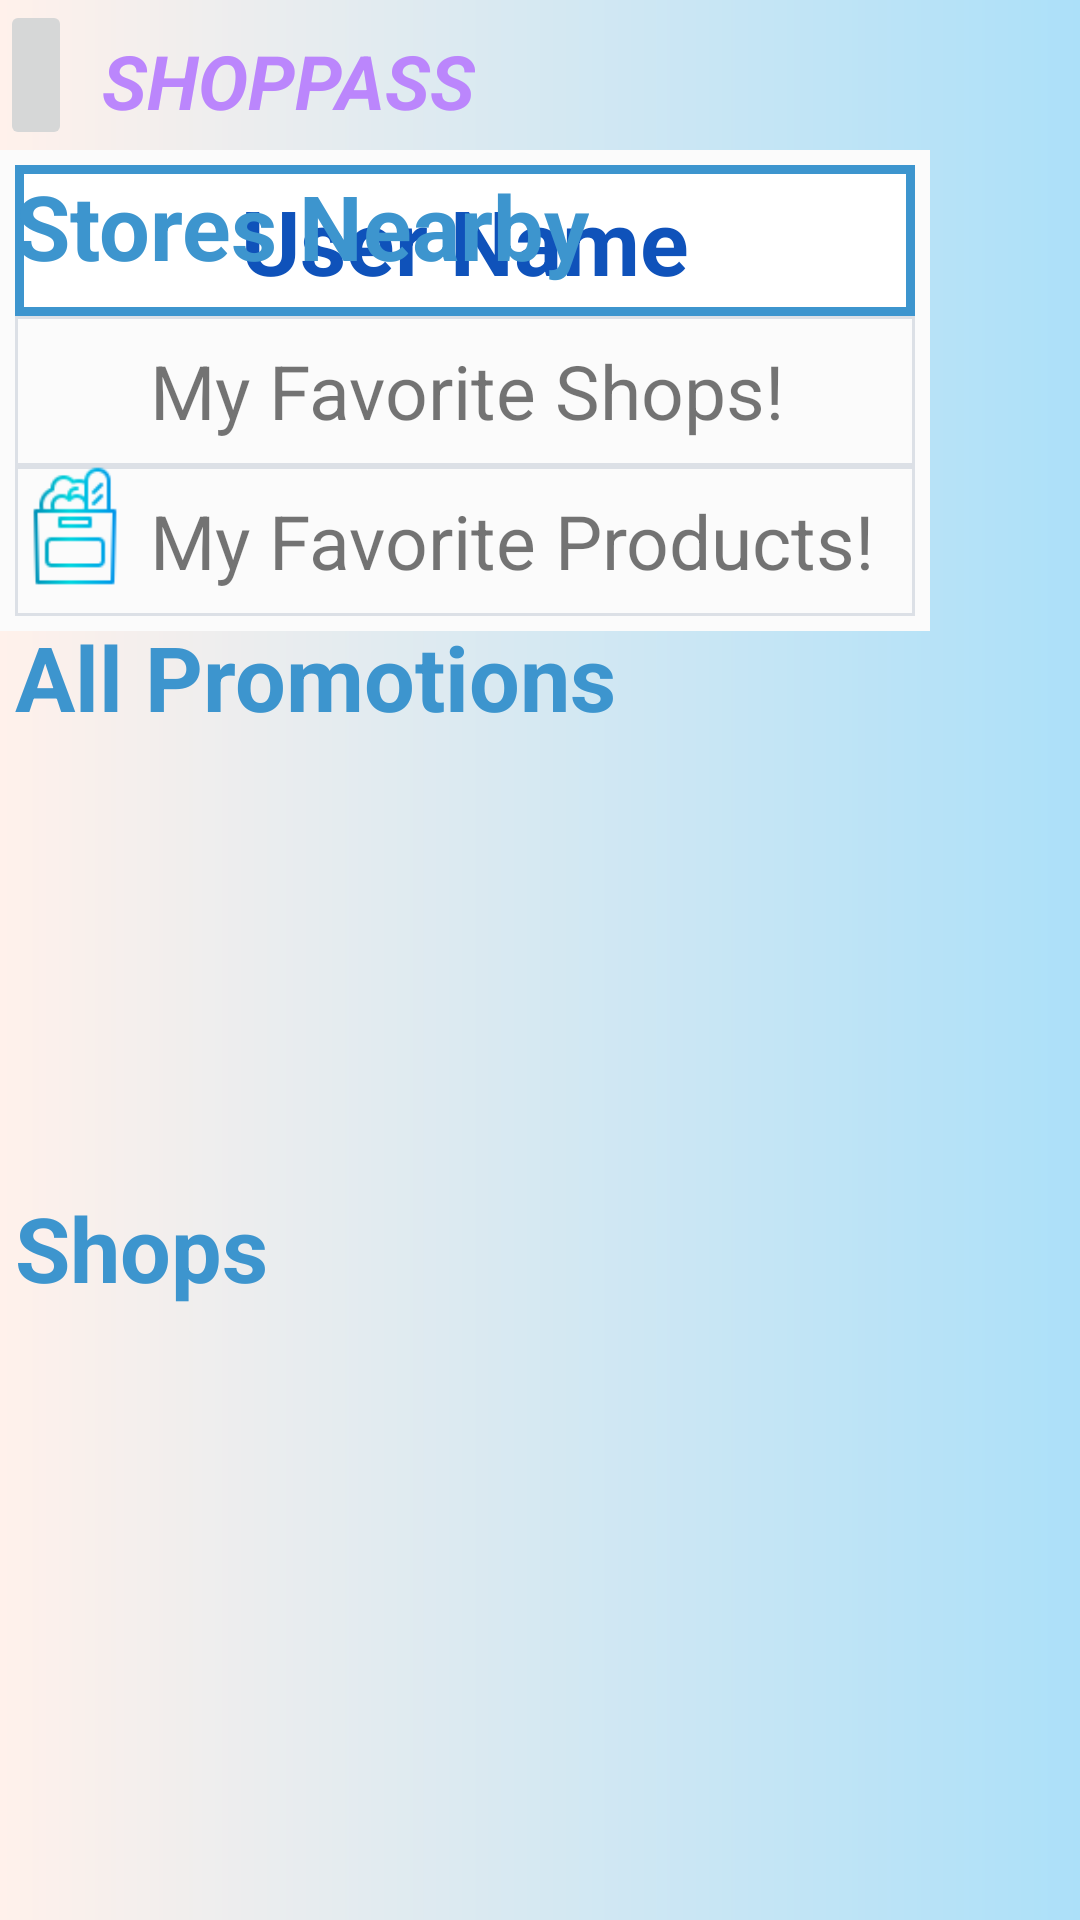

Icons on this 1080w x 1920h Android screen, each with the point to tap as [x,y]:
groceries: [75,526]
